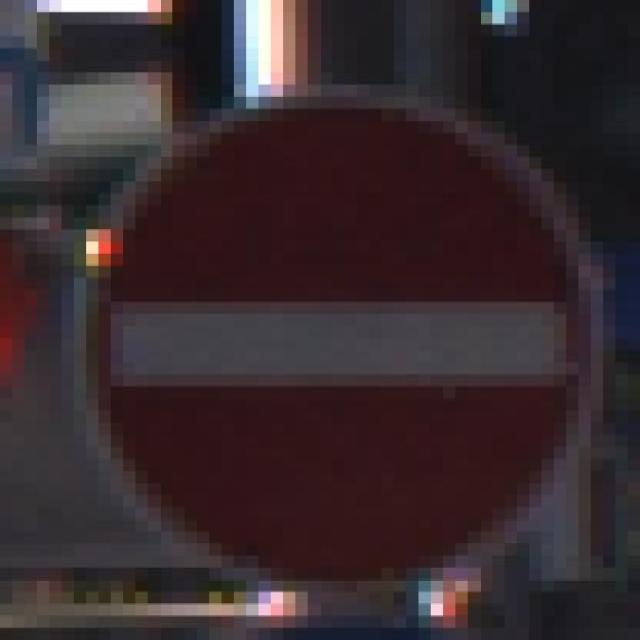No Entry: (49, 48, 603, 580)
